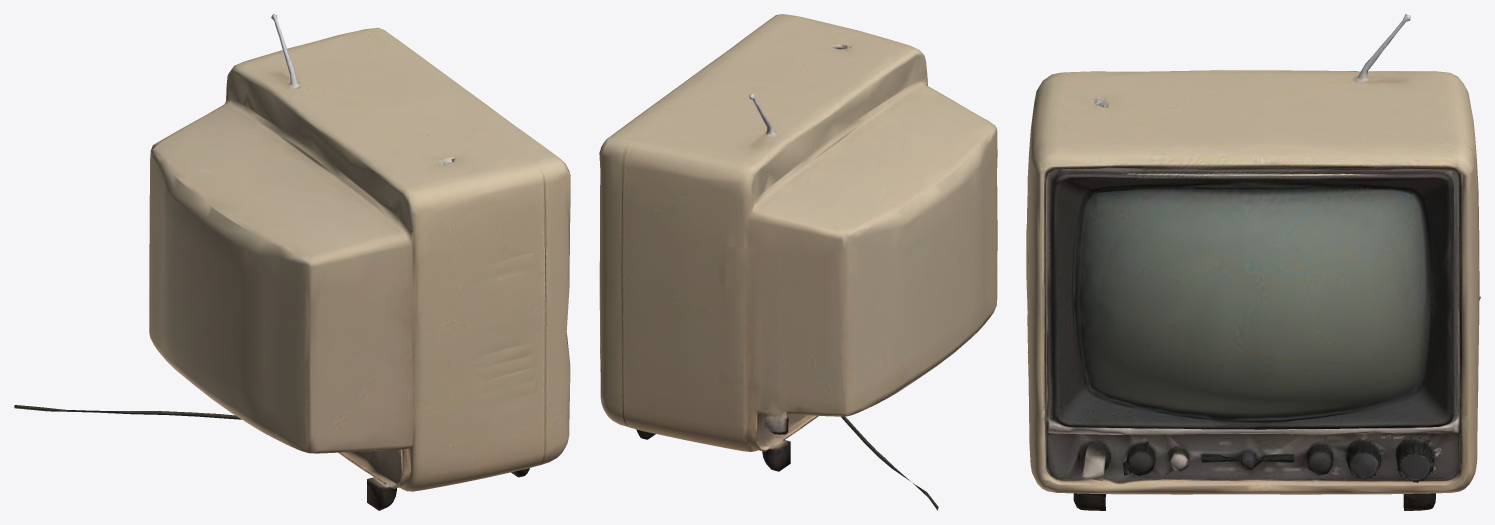
File: prop_tv-B5a1ITga.glb
3 views of the same model, side by side, from view 1: azimuth 30°, elevation 25°; view 2: azimuth 150°, elevation 25°; view 3: azimuth 270°, elevation 25° (orthographic). The views are drawn at different scales.
Visible parts, largest first — view 1: tripo_node_e0e146ae-24ed-4e91-aa99-c9640965a8ba; view 2: tripo_node_e0e146ae-24ed-4e91-aa99-c9640965a8ba; view 3: tripo_node_e0e146ae-24ed-4e91-aa99-c9640965a8ba.
Boxes of the visible parts, x1,y1,x2,y2 form: tripo_node_e0e146ae-24ed-4e91-aa99-c9640965a8ba: (14,14,570,510); tripo_node_e0e146ae-24ed-4e91-aa99-c9640965a8ba: (599,14,997,510); tripo_node_e0e146ae-24ed-4e91-aa99-c9640965a8ba: (1026,14,1480,510).
Bounding box in the file's own units: 0.9986 × 0.9013 × 0.8538.
Materials: 1 (1 with a texture image).
